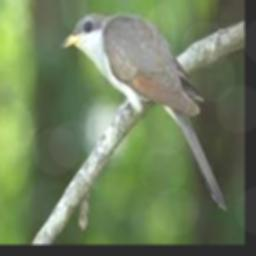Cuckoo: (61, 11, 227, 210)
